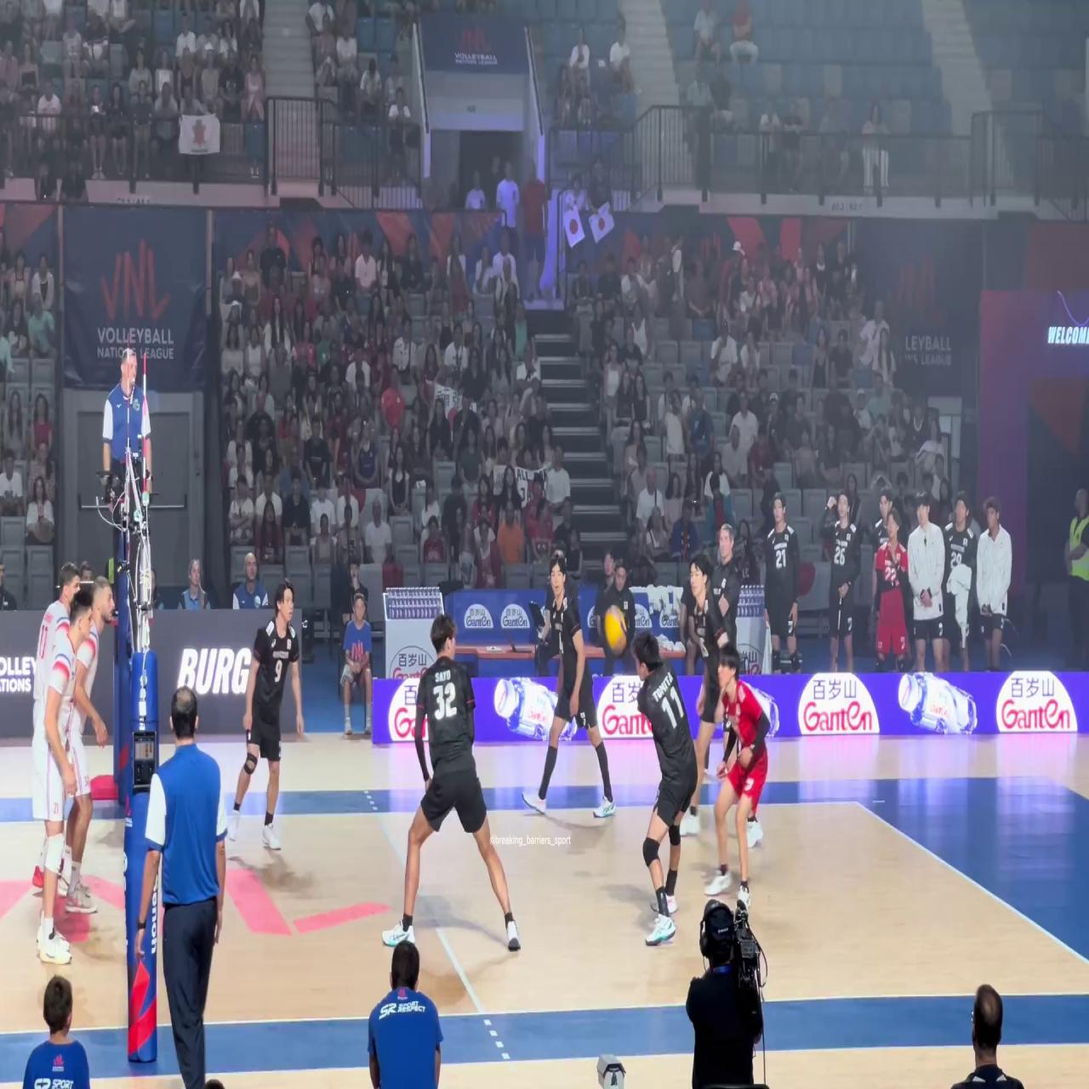ball: (605, 606, 626, 653)
